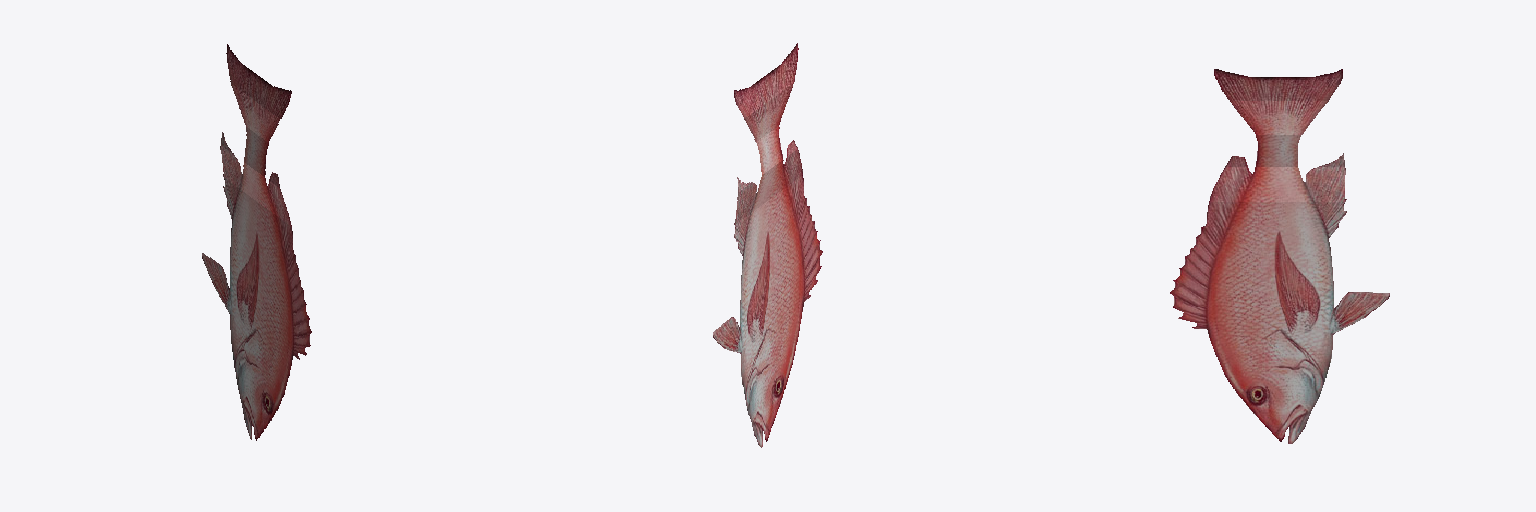
3 views of the same model, side by side, from view 1: azimuth 30°, elevation 25°; view 2: azimuth 150°, elevation 25°; view 3: azimuth 270°, elevation 25° (orthographic).
Bounding box in the file's own units: 0.0332 × 2 × 1.06.
Materials: 1 (1 with a texture image).